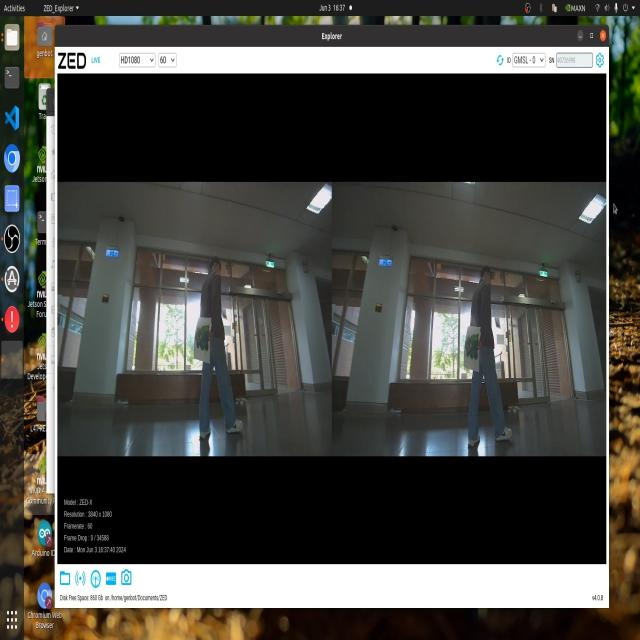green: (192, 313, 216, 353), (465, 329, 476, 362)
